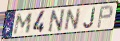4: (32, 10, 47, 35)
J: (83, 7, 97, 30)
M: (12, 12, 34, 36)
N: (63, 7, 83, 32), (47, 8, 66, 34)
P: (96, 5, 114, 30)
